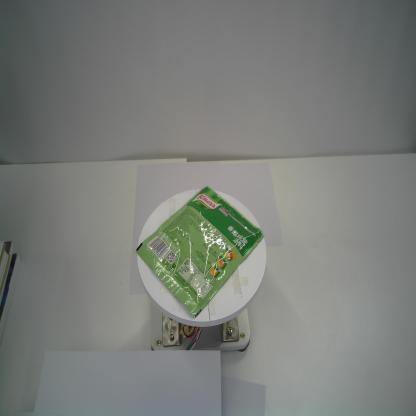Seasoner: (135, 184, 264, 319)
